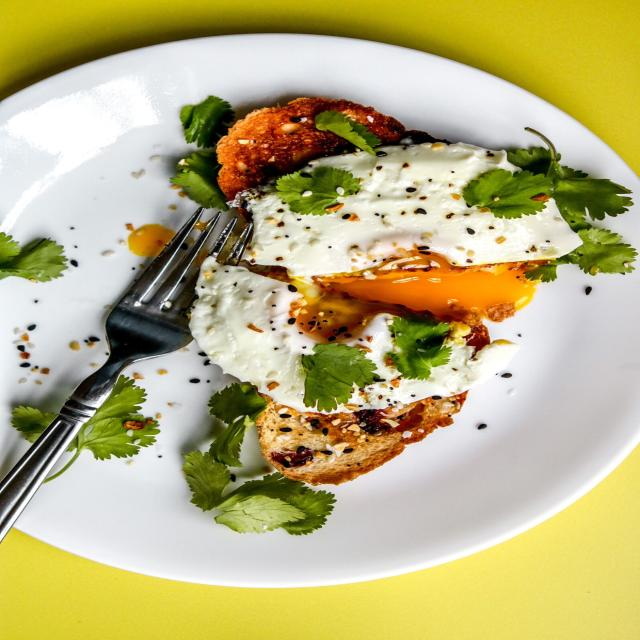Egg: (246, 142, 583, 324), (189, 250, 536, 415)
